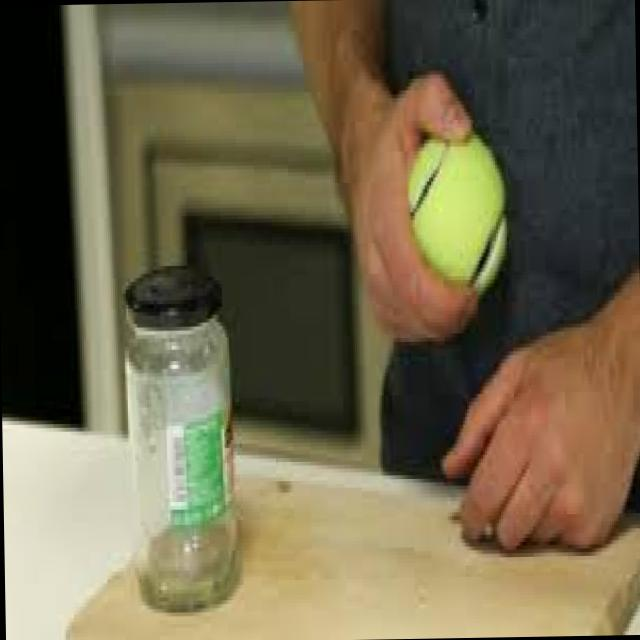tennis-ball: (406, 128, 507, 297)
